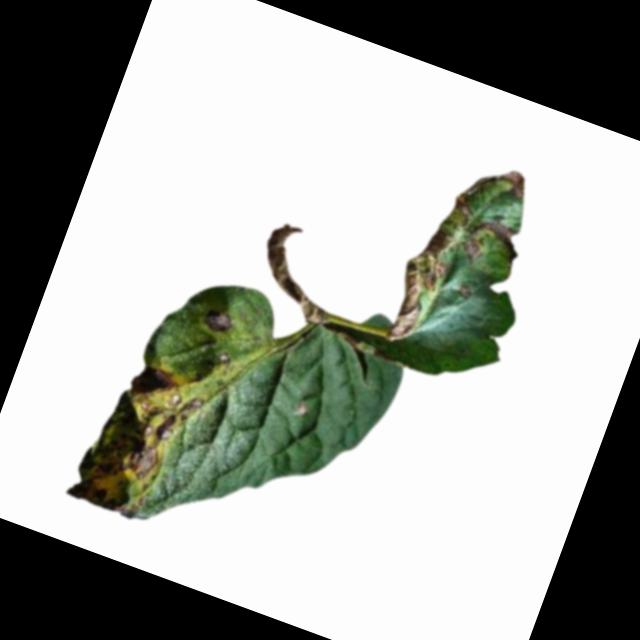Early_blight: (65, 353, 212, 531), (378, 180, 479, 352), (231, 214, 356, 330), (458, 213, 521, 273), (488, 164, 532, 204), (200, 306, 234, 337), (454, 283, 471, 299)
